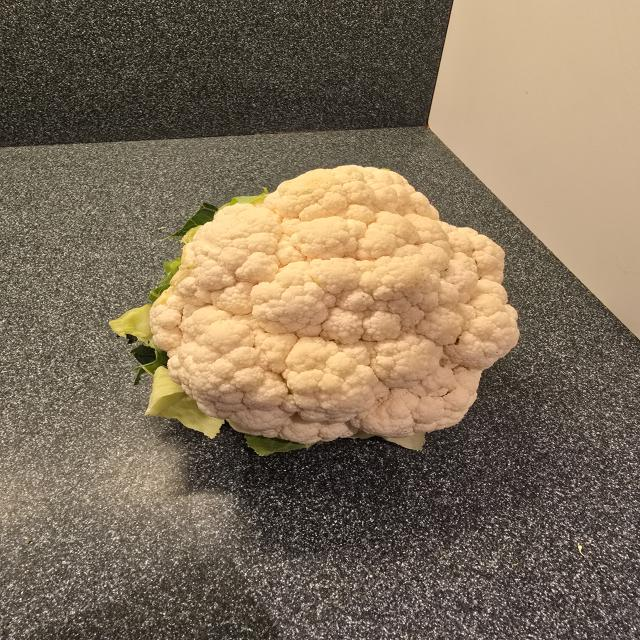Cauliflower: (88, 153, 544, 461)
